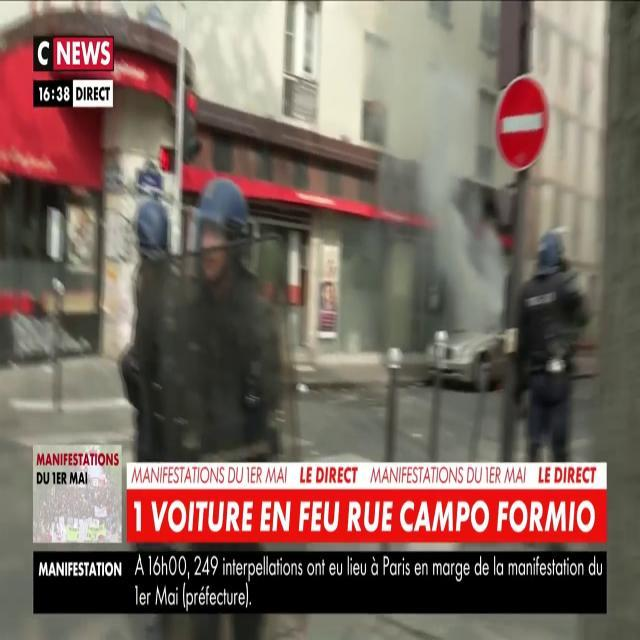Smoke: (349, 1, 518, 342)
